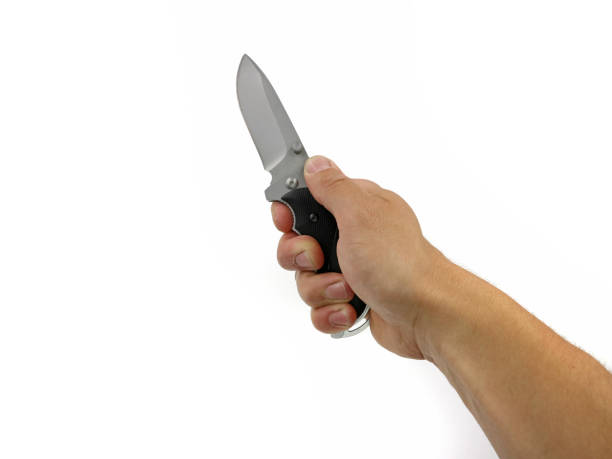knife: (234, 52, 372, 341)
